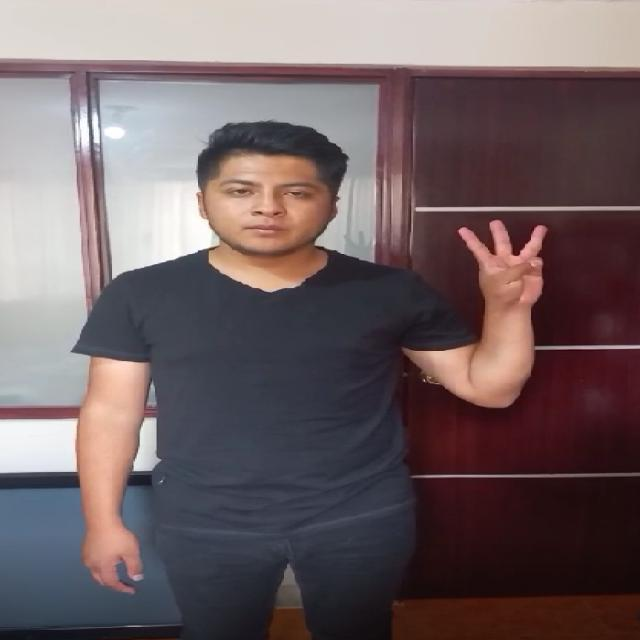W: (431, 195, 585, 324)
